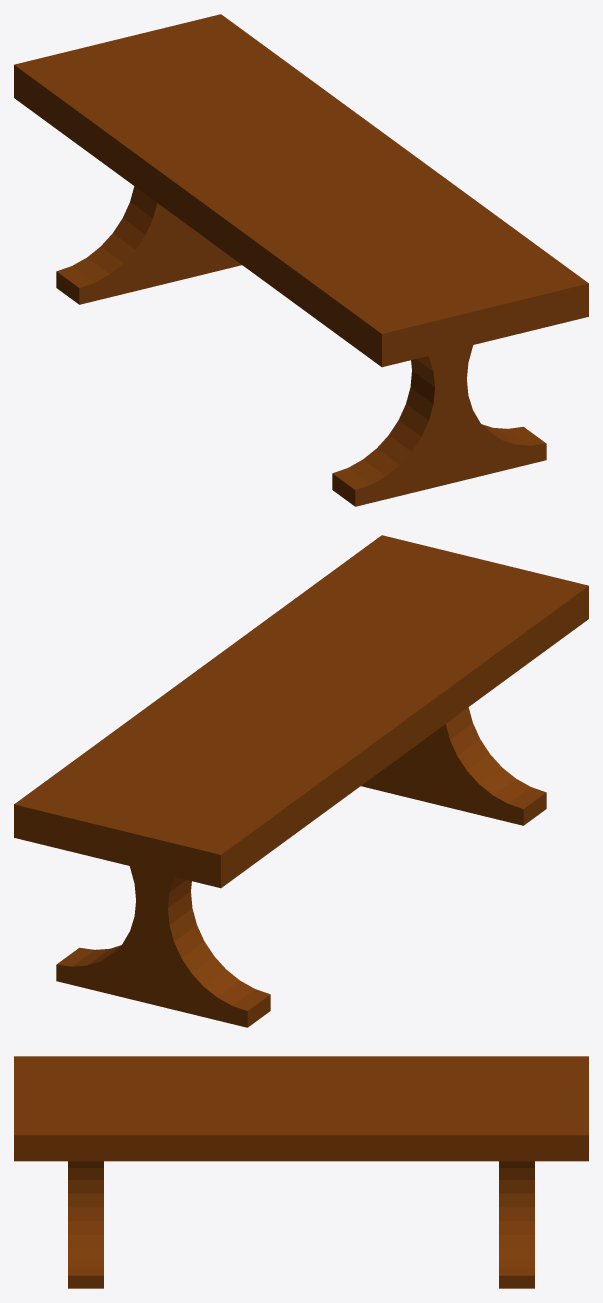
The model's file is Bank.fbx.
The picture shows the model from 3 angles, top to bottom: view 1: azimuth 30°, elevation 25°; view 2: azimuth 150°, elevation 25°; view 3: azimuth 270°, elevation 25°; orthographic projection. The views are drawn at different scales.
Visible parts, largest first — view 1: Bank; view 2: Bank; view 3: Bank.
Boxes of the visible parts, x1=… form: Bank: x1=14, y1=14, x2=588, y2=506; Bank: x1=14, y1=535, x2=588, y2=1027; Bank: x1=14, y1=1056, x2=588, y2=1288.
Size of the model in its own units: 260 by 240 by 800.
